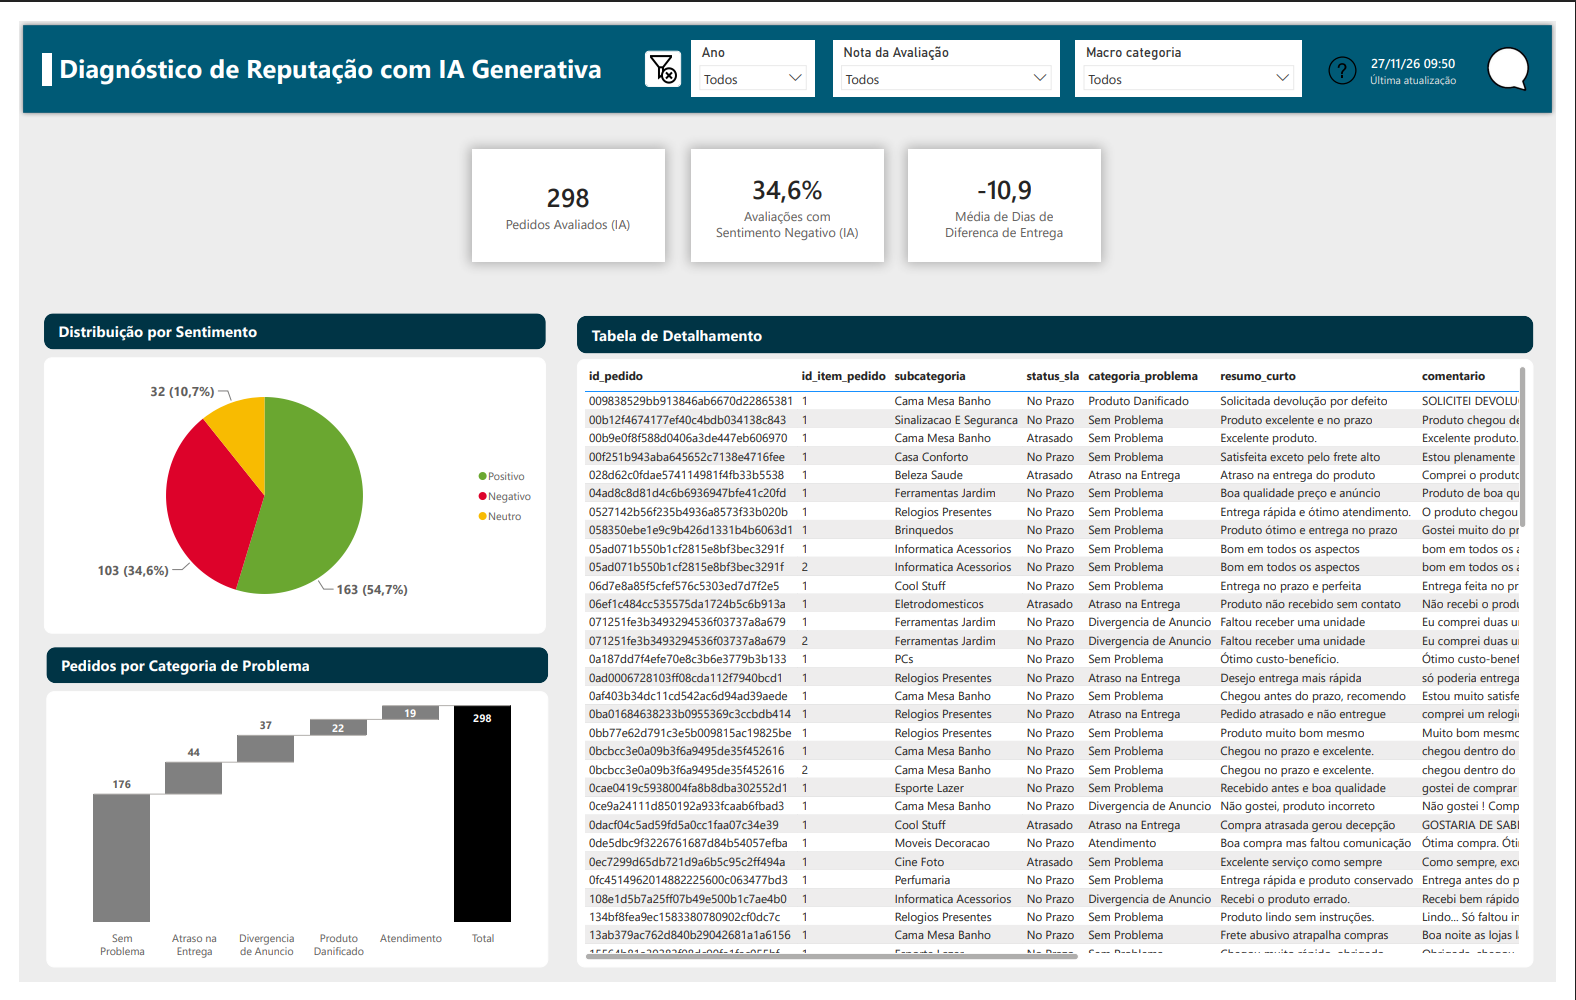

The page's visual inventory and layout, read from the dashboard file:
{"tool":"powerbi","page":{"name":"Diag. Rep. com IA","canvas":[1920,1200],"ordinal":1},"visuals":[{"type":"shape","title":"Aba cabeçalho","box":[0,0,1920,120],"z":0,"group":"g1"},{"type":"group","id":"g1","title":"Cabeçalho","box":[0,0,1920,120],"z":0},{"type":"textbox","title":"Título","box":[45,31.4,760,56.7],"z":1000,"group":"g1"},{"type":"cardVisual","title":"Cartão Receita Total","fields":{"Data":["_Medidas.Pedidos Avaliados (IA)"]},"box":[565.6,160,240,140],"z":1000},{"type":"shape","box":[28.6,40,12,40],"z":2000,"group":"g1"},{"type":"cardVisual","title":"Cartão Total Pedidos","fields":{"Data":["_Medidas.% Sentimento Negativo (IA)"]},"box":[840,160.3,240,140],"z":2000},{"type":"image","title":"Botão info","box":[1830,31.7,60,56.7],"z":3000,"group":"g1"},{"type":"shape","box":[31.3,365,626.7,45],"z":3000},{"type":"pieChart","fields":{"Category":["dim_avaliacoes_ia.sentimento"],"Y":["Count(fact_vendas.id_pedido)"]},"box":[31.2,420,626.2,345],"z":4000},{"type":"shape","box":[33.9,781.7,626.7,45],"z":5000},{"type":"waterfallChart","fields":{"Category":["dim_avaliacoes_ia.categoria_problema"],"Y":["Count(fact_vendas.id_pedido)"]},"box":[33.9,836.7,626.7,345],"z":6000},{"type":"shape","box":[696.7,368.3,1195,46.7],"z":7000},{"type":"tableEx","fields":{"Values":["fact_vendas.id_pedido","fact_vendas.id_item_pedido","dim_produtos.subcategoria","fact_vendas.status_sla","dim_avaliacoes_ia.categoria_problema","dim_avaliacoes_ia.resumo_curto","dim_avaliacoes_ia.comentario"]},"box":[696.7,421.7,1195,760],"z":8000},{"type":"slicer","fields":{"Values":["dim_calendario.ano"]},"box":[840,24.3,154.3,70],"z":9000},{"type":"slicer","fields":{"Values":["dim_avaliacoes_ia.nota_avaliacao"]},"box":[1017.1,24.3,282.9,70],"z":10000},{"type":"slicer","fields":{"Values":["dim_produtos.macro_categoria"]},"box":[1320,24.3,282.9,70],"z":11000},{"type":"image","box":[781.7,36.7,45,45],"z":12000},{"type":"cardVisual","fields":{"Data":["Min(Última atualização.Última atualização)"]},"box":[1654.3,24.3,175.7,72.9],"z":13000},{"type":"cardVisual","title":"Cartão Total Pedidos","fields":{"Data":["Avg(fact_vendas.dias_diferenca_entrega)"]},"box":[1111.4,160,240,140],"z":14000},{"type":"dynamicTooltip1859AB39DB23051788ADF752BCB90749","fields":{"header":["_Medidas.Blank"]},"box":[1631.4,38.6,45,45],"z":15000}]}

Visuals, with their boxes in screenshot pixels (x1, y1, x2, y2), scaled from the page's 1920x1200 canvas onto the 1576x1000 screenshot:
"Aba cabeçalho" shape: l=0, t=0, r=1575, b=100
"Cabeçalho" group: l=0, t=0, r=1575, b=100
"Título" textbox: l=37, t=26, r=661, b=73
"Cartão Receita Total" cardVisual: l=464, t=133, r=661, b=250
shape: l=23, t=33, r=33, b=67
"Cartão Total Pedidos" cardVisual: l=690, t=134, r=886, b=250
"Botão info" image: l=1502, t=26, r=1551, b=74
shape: l=26, t=304, r=540, b=342
pieChart - dim_avaliacoes_ia.sentimento x Count(fact_vendas.id_pedido): l=26, t=350, r=540, b=638
shape: l=28, t=651, r=542, b=689
waterfallChart - dim_avaliacoes_ia.categoria_problema x Count(fact_vendas.id_pedido): l=28, t=697, r=542, b=985
shape: l=572, t=307, r=1553, b=346
tableEx - fact_vendas.id_pedido x fact_vendas.id_item_pedido: l=572, t=351, r=1553, b=985
slicer - dim_calendario.ano: l=690, t=20, r=816, b=79
slicer - dim_avaliacoes_ia.nota_avaliacao: l=835, t=20, r=1067, b=79
slicer - dim_produtos.macro_categoria: l=1084, t=20, r=1316, b=79
image: l=642, t=31, r=679, b=68
cardVisual - Min(Última atualização.Última atualização): l=1358, t=20, r=1502, b=81
"Cartão Total Pedidos" cardVisual: l=912, t=133, r=1109, b=250
dynamicTooltip1859AB39DB23051788ADF752BCB90749 - _Medidas.Blank: l=1339, t=32, r=1376, b=70
